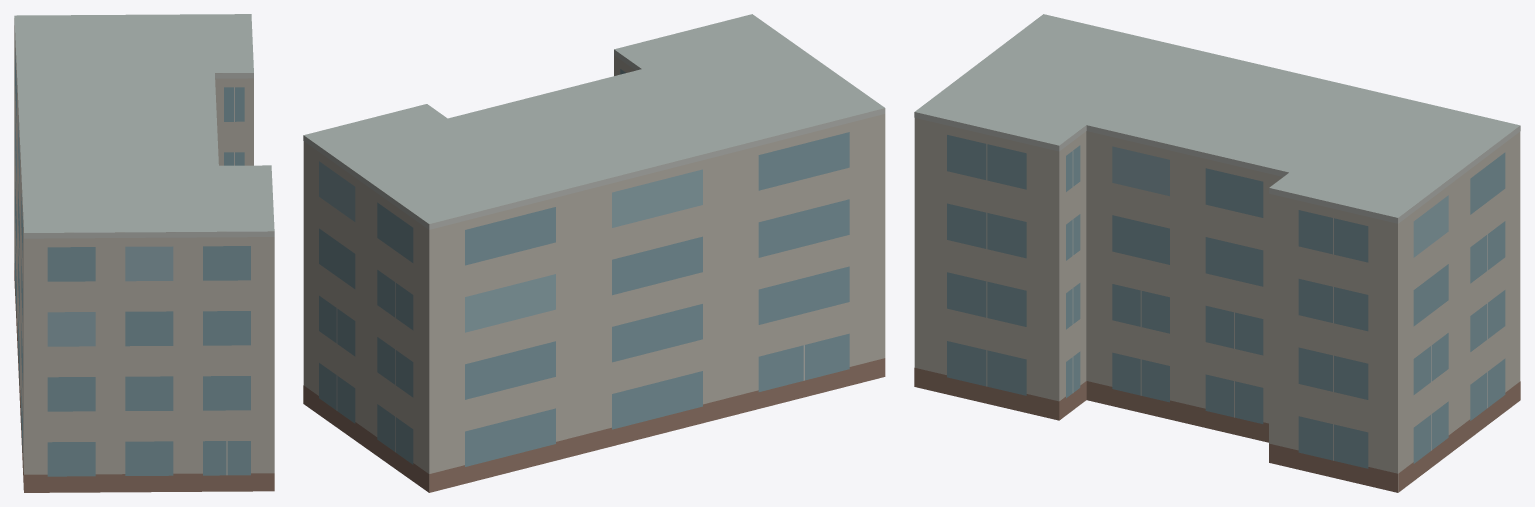
Rendered from survey-upis-32657733.glb.
The picture shows the model from 3 angles, left to right: view 1: azimuth 30°, elevation 25°; view 2: azimuth 150°, elevation 25°; view 3: azimuth 270°, elevation 25°; orthographic projection. The views are drawn at different scales.
Parts seen in each view (by area): view 1: survey-upis-32657733.tmp; view 2: survey-upis-32657733.tmp; view 3: survey-upis-32657733.tmp.
Part boxes in pixels (x1,y1,x2,y2): survey-upis-32657733.tmp: (14, 14, 274, 492); survey-upis-32657733.tmp: (303, 14, 885, 492); survey-upis-32657733.tmp: (914, 14, 1520, 492).
Size of the model in its own units: 18.15 by 11.4 by 22.78.
